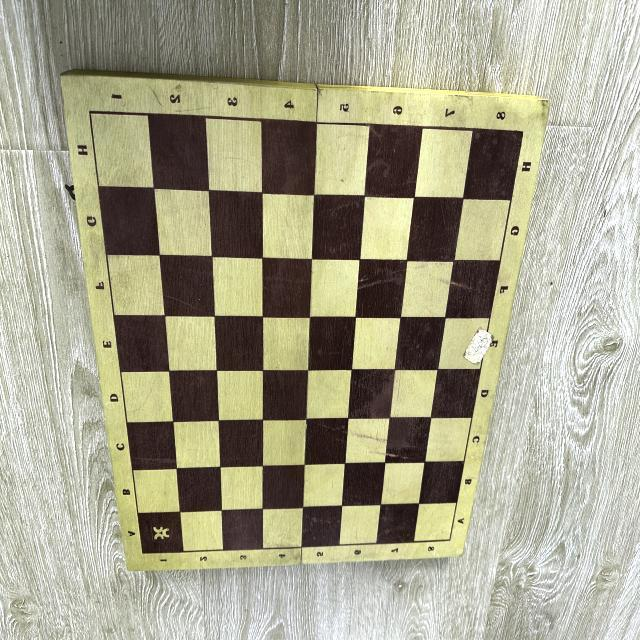chess-table-corners: (515, 123, 531, 142), (442, 532, 456, 550), (85, 105, 96, 121), (140, 547, 146, 560)
